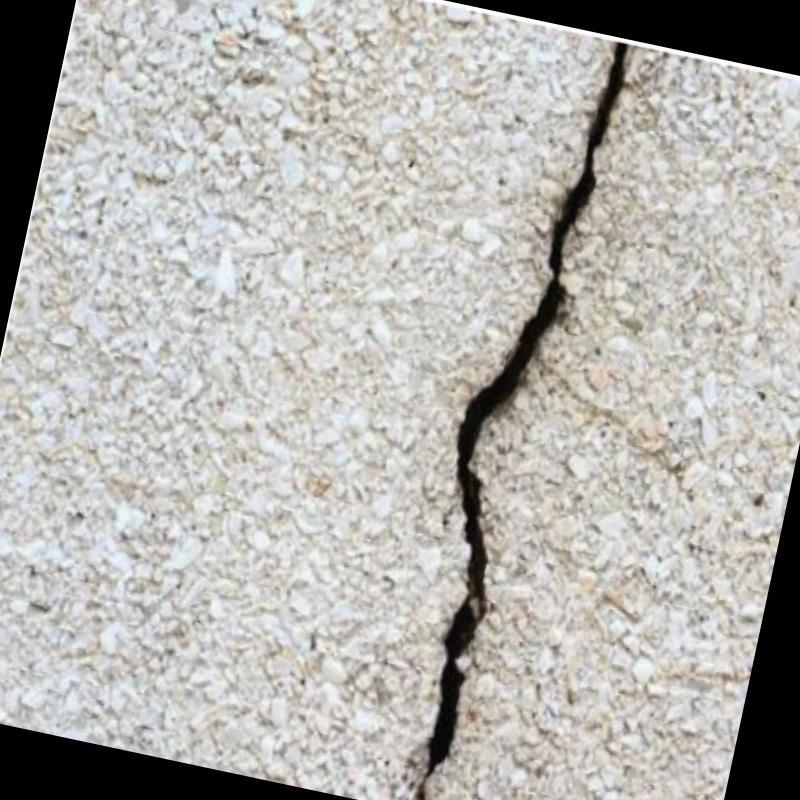crack: (416, 44, 625, 800)
